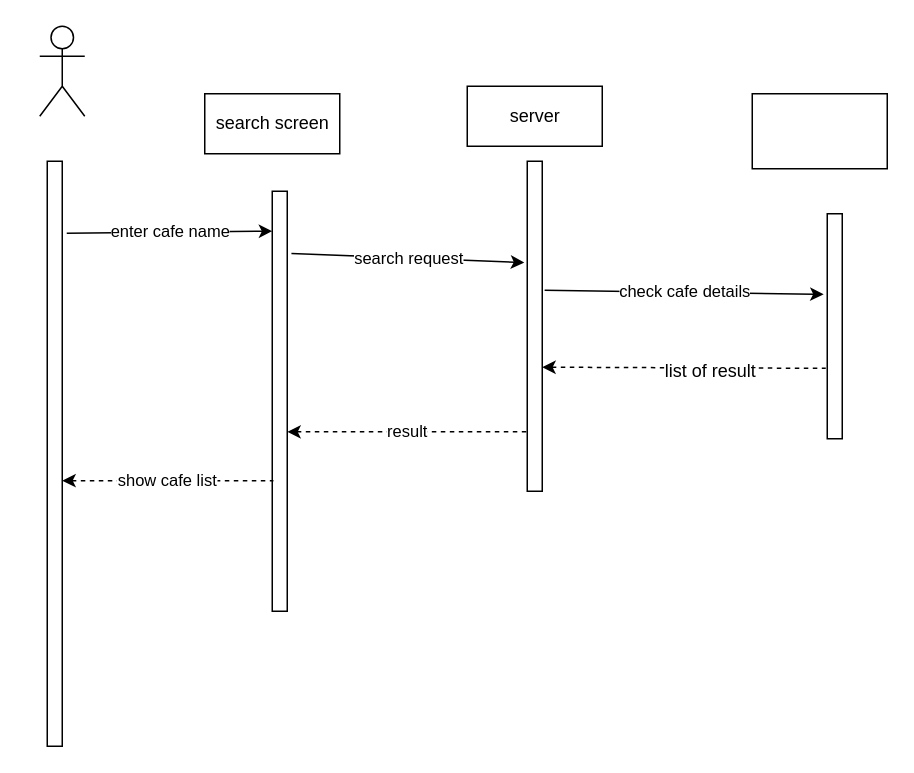
This 914x773 diagram has some shape labels left out. The shapes that lost their labels are listed below. From the top down, each one's box as (x1, y1, x2, y2) in pixels, then its label:
(38, 25, 85, 116): customer
(751, 92, 887, 169): DB:cafe table
